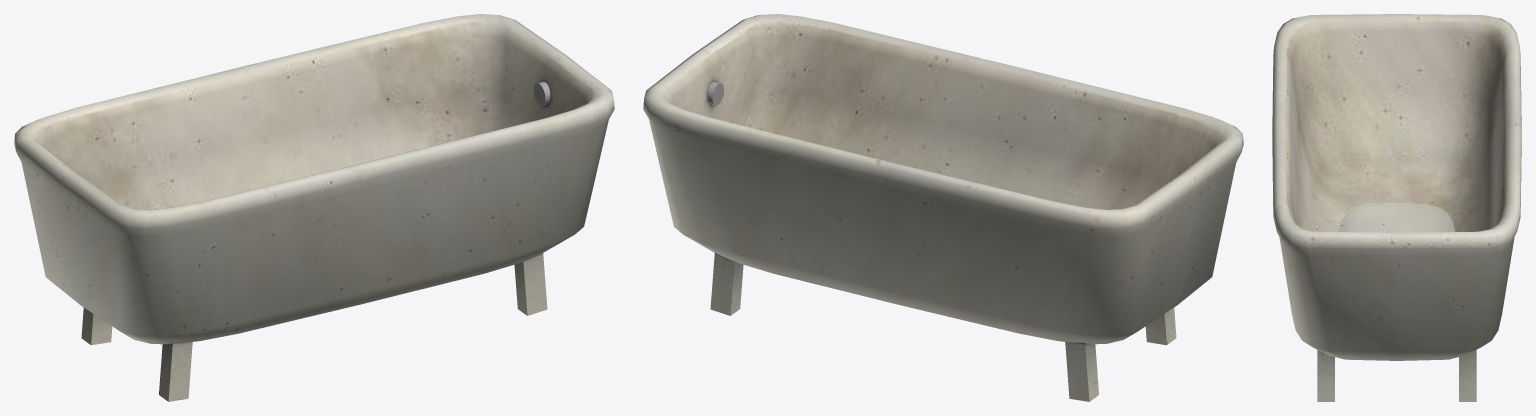
The model's file is bath_cast_lod1_web.glb.
3 renders of one model, left to right at view 1: azimuth 30°, elevation 25°; view 2: azimuth 150°, elevation 25°; view 3: azimuth 270°, elevation 25°, orthographic. The views are drawn at different scales.
Visible parts, largest first — view 1: BathCast_Body; view 2: BathCast_Body; view 3: BathCast_Body.
Boxes of the visible parts, x1=… form: BathCast_Body: x1=14, y1=14, x2=614, y2=401; BathCast_Body: x1=643, y1=14, x2=1243, y2=401; BathCast_Body: x1=1272, y1=14, x2=1521, y2=401.
Size of the model in its own units: 1.5 by 0.6084 by 0.704.
Materials: 2 (2 with a texture image).
